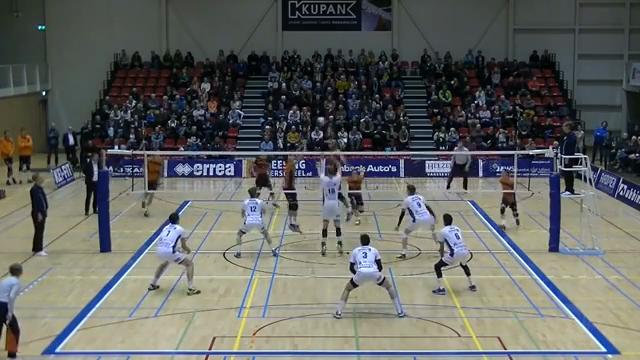Block: (313, 149, 348, 257)
Player: (333, 234, 404, 318), (148, 213, 200, 294), (432, 213, 476, 294), (395, 184, 435, 258), (234, 187, 276, 257), (142, 155, 164, 217), (283, 157, 301, 232), (252, 156, 277, 206), (499, 169, 519, 229), (347, 169, 363, 224)
ball: (316, 115, 327, 126)
